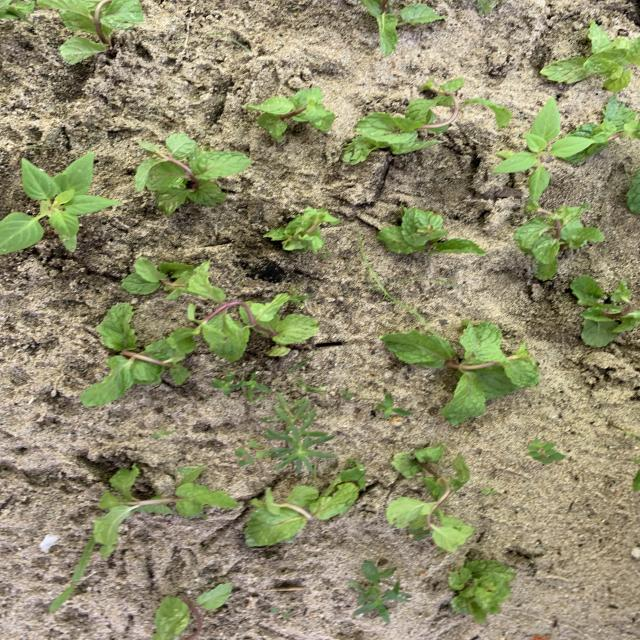crop: (381, 321, 538, 423), (343, 78, 511, 163), (89, 466, 235, 556), (94, 466, 235, 556), (80, 305, 194, 405), (245, 460, 365, 545), (190, 284, 318, 360), (136, 134, 250, 215), (387, 445, 473, 551), (515, 199, 603, 279), (541, 22, 639, 90), (38, 1, 143, 63), (565, 95, 640, 164), (378, 208, 483, 255), (246, 87, 335, 141), (571, 277, 639, 346), (360, 0, 445, 55), (153, 584, 231, 639), (122, 258, 221, 299), (450, 561, 513, 621), (264, 208, 339, 252), (626, 168, 639, 214), (1, 1, 34, 19)
weed: (0, 153, 120, 254), (491, 97, 594, 202), (255, 394, 335, 477), (358, 234, 427, 324), (351, 562, 407, 620), (212, 372, 270, 400), (206, 31, 253, 57), (236, 440, 271, 465), (528, 440, 563, 462), (377, 393, 410, 416), (288, 357, 311, 371), (291, 288, 309, 305), (297, 380, 323, 391), (271, 609, 293, 617), (152, 430, 171, 437), (342, 390, 352, 398), (320, 251, 331, 258), (482, 489, 495, 494)
